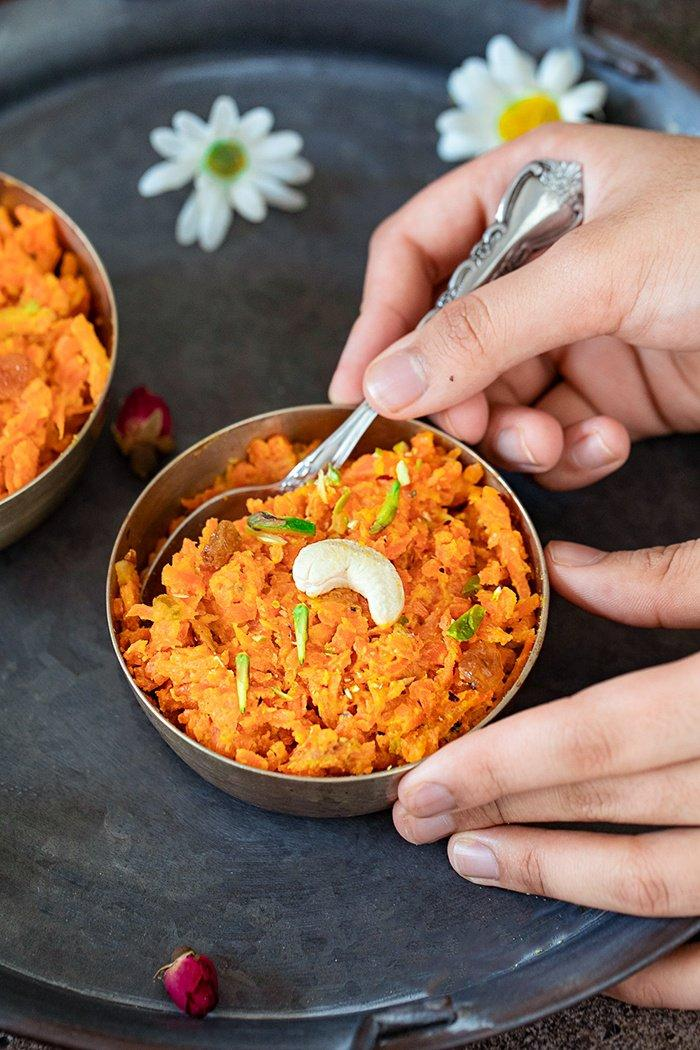Gajar ka halwa: (111, 396, 560, 816)
